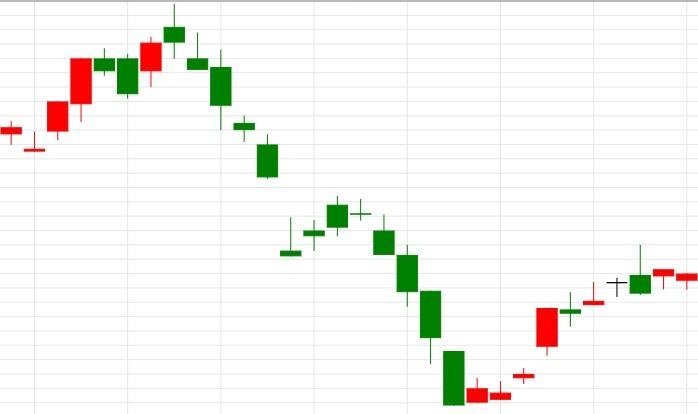evening_star_fall: (24, 3, 208, 153)
